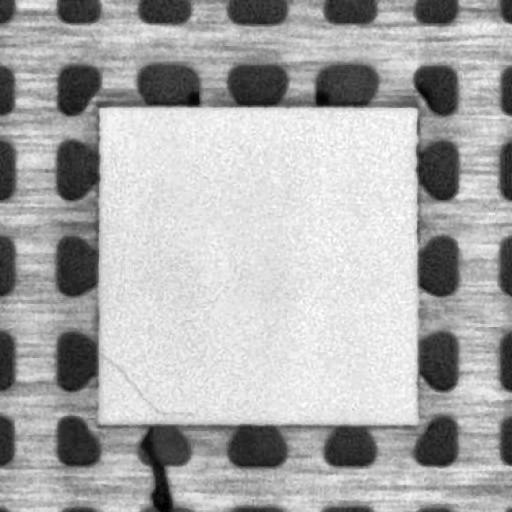DIE_CRACK: (96, 352, 195, 414)
